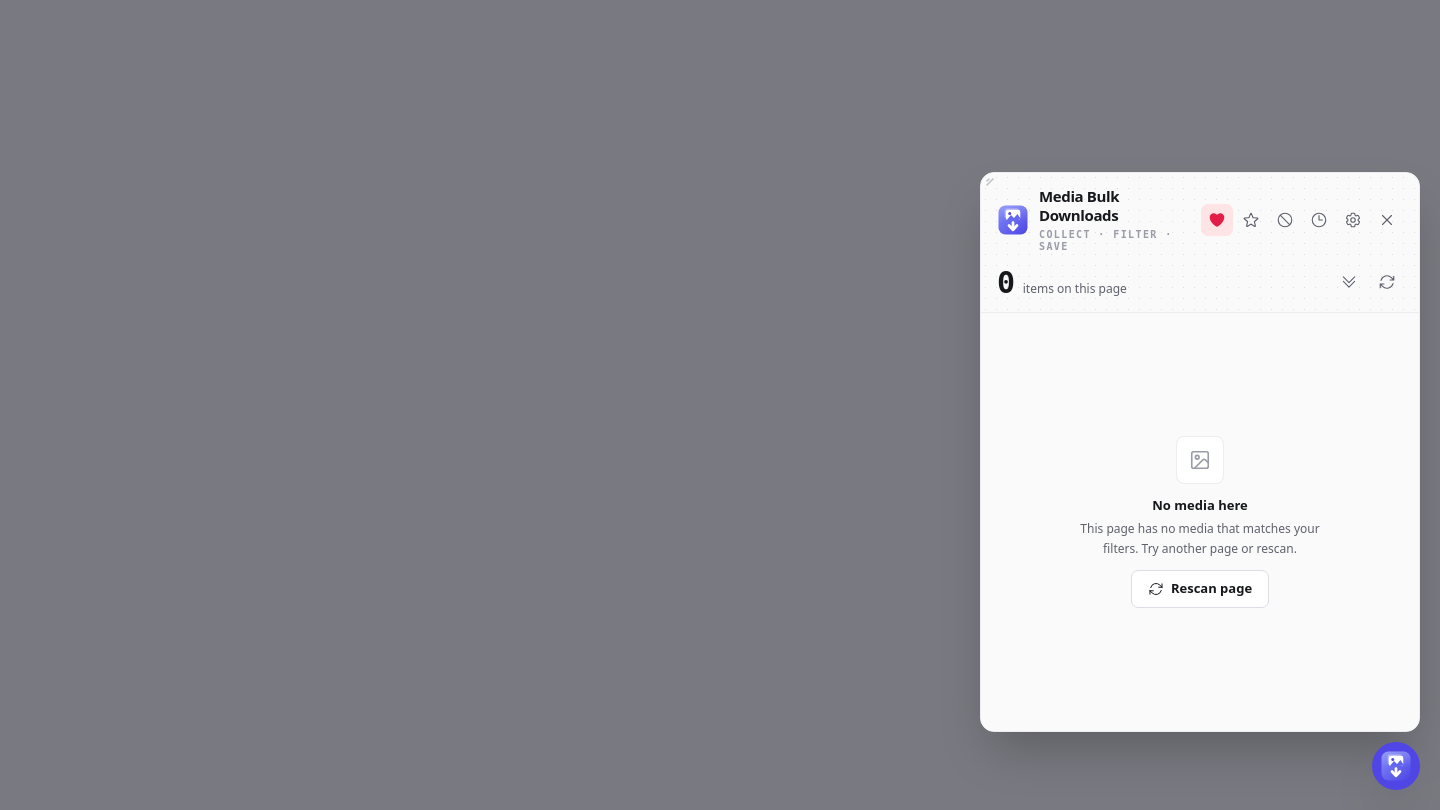
Bubble › Escape closes an open sub-dialog, keeping the panel open
Expected: the heading "Media Bulk Downloads" is shown, [1039,186,1119,225]
Click the button named "Settings" at (1353, 220), box [1337,204,1369,236]
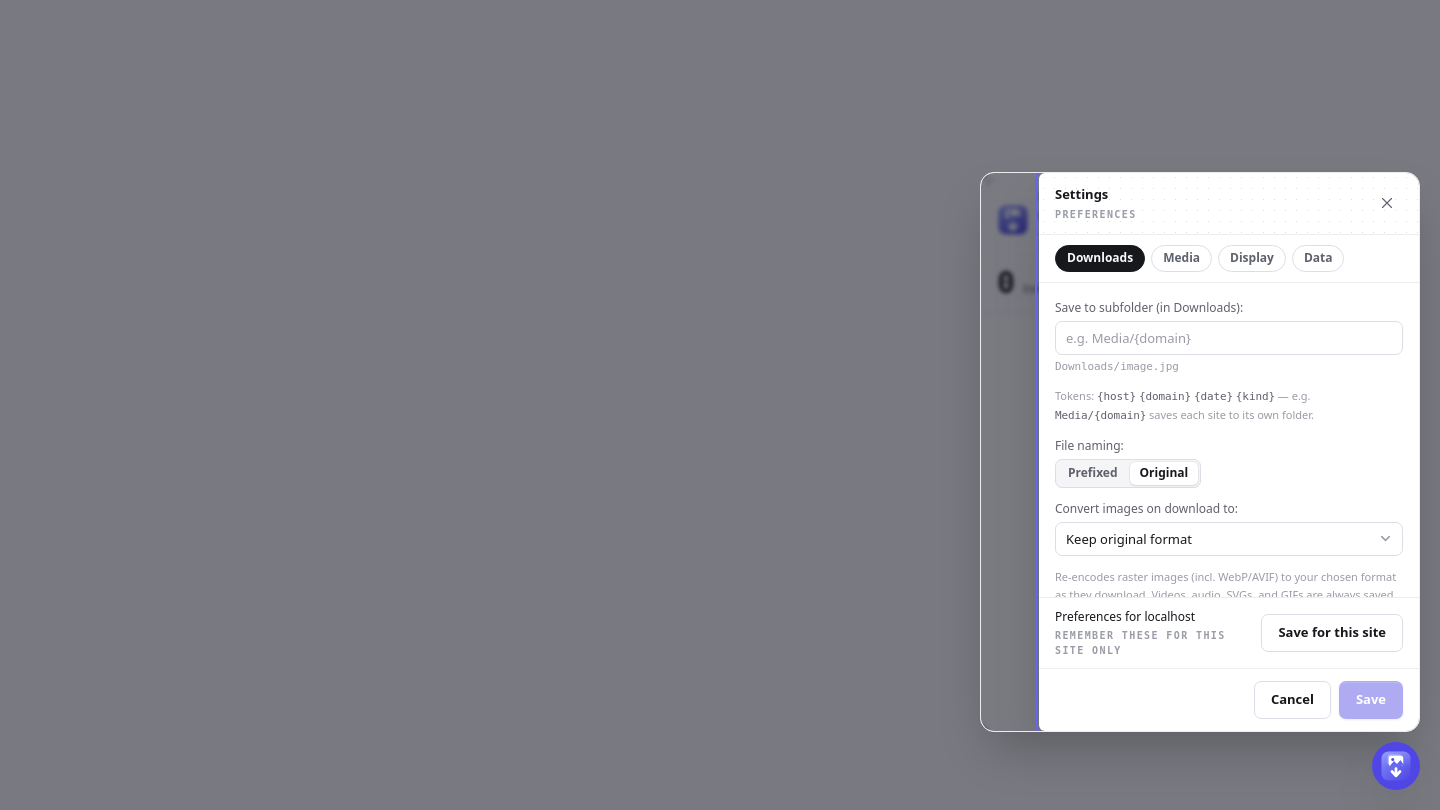
Expected: the dialog "Settings" is shown, [1039,173,1419,731]
Press Escape
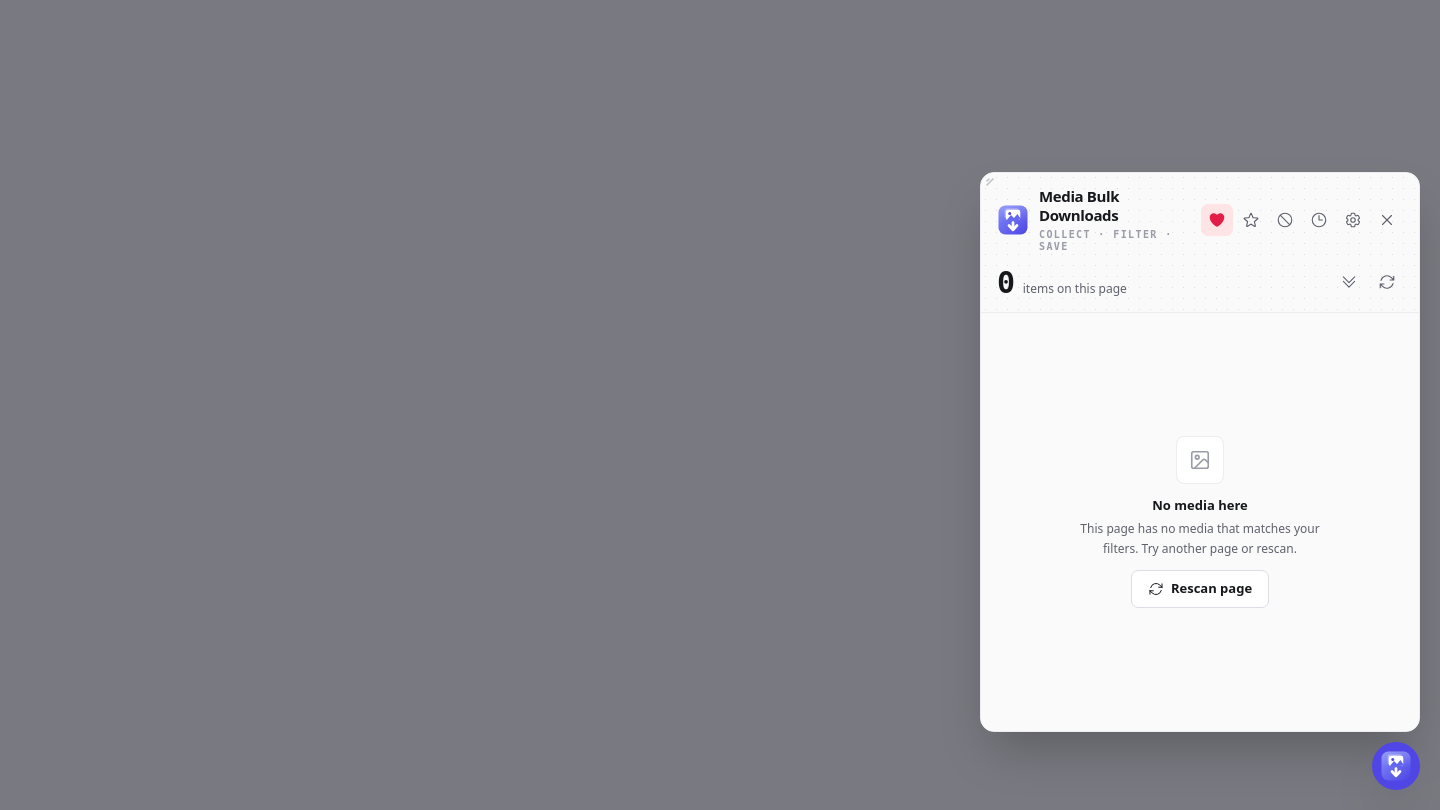
Expected: the heading "Media Bulk Downloads" is shown, [1039,186,1119,225]
Expected: the heading "Settings" is gone
